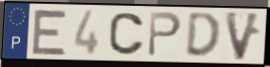4: (73, 8, 104, 58)
C: (107, 11, 147, 57)
D: (183, 11, 222, 60)
E: (30, 7, 70, 57)
P: (146, 11, 184, 59)
V: (223, 10, 264, 63)
